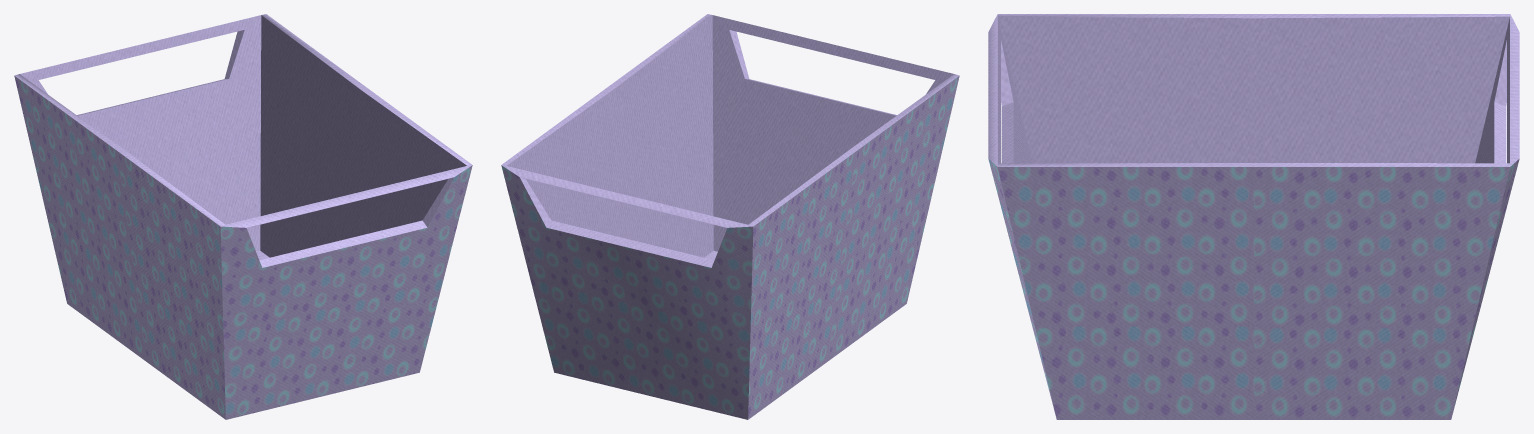
The model's file is Storage_Bin_F.FBX.
The picture shows the model from 3 angles, left to right: view 1: azimuth 30°, elevation 25°; view 2: azimuth 150°, elevation 25°; view 3: azimuth 270°, elevation 25°; orthographic projection. The views are drawn at different scales.
Parts seen in each view (by area): view 1: Storage_Bin; view 2: Storage_Bin; view 3: Storage_Bin.
Part boxes in pixels (left/top/right/bottom): Storage_Bin: left=14, top=14, right=472, bottom=419; Storage_Bin: left=501, top=14, right=959, bottom=419; Storage_Bin: left=988, top=14, right=1519, bottom=419.
Bounding box in the file's own units: 84.75 × 70.11 × 125.
